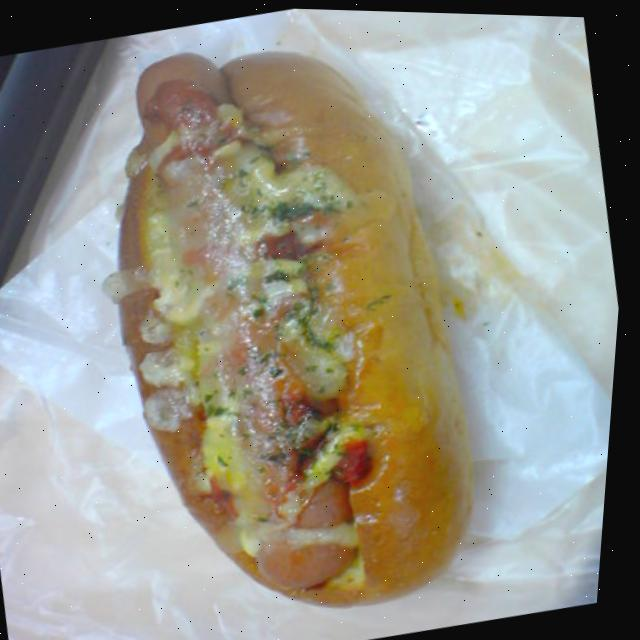三明治: (27, 8, 518, 640)
